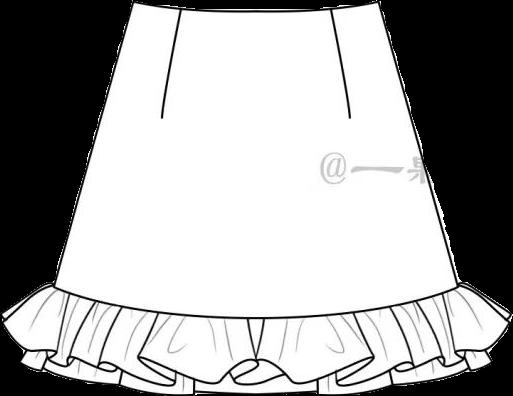Hemline: (2, 316, 512, 386)
Waistline: (53, 280, 462, 322), (131, 0, 380, 15)
